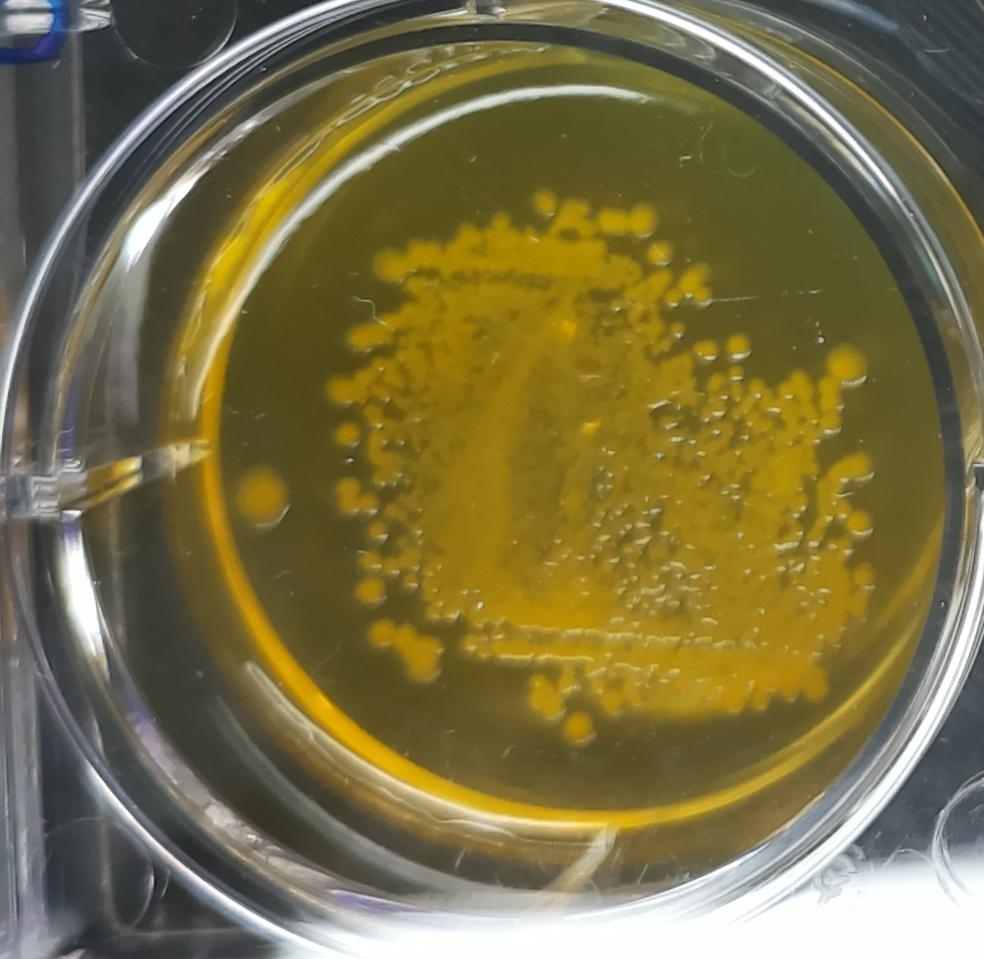vharveyi: (229, 460, 290, 534), (398, 621, 450, 688), (496, 633, 599, 665), (815, 448, 880, 496), (600, 196, 663, 239), (356, 355, 405, 402), (348, 309, 396, 353), (826, 338, 870, 385), (526, 674, 565, 720), (371, 245, 412, 285), (682, 260, 717, 306), (819, 377, 846, 434), (562, 710, 602, 747), (353, 574, 387, 613), (701, 369, 728, 418), (799, 667, 833, 703), (780, 366, 813, 400), (326, 374, 356, 411), (458, 629, 491, 662), (333, 417, 364, 452), (333, 475, 359, 515), (843, 507, 877, 537), (851, 558, 881, 591), (364, 619, 394, 650), (646, 240, 678, 267), (533, 185, 558, 218), (692, 337, 720, 365), (355, 546, 385, 572), (724, 330, 750, 360), (358, 488, 383, 519), (397, 569, 423, 596), (366, 522, 390, 548), (668, 320, 688, 343), (726, 363, 748, 383), (662, 286, 681, 308)
